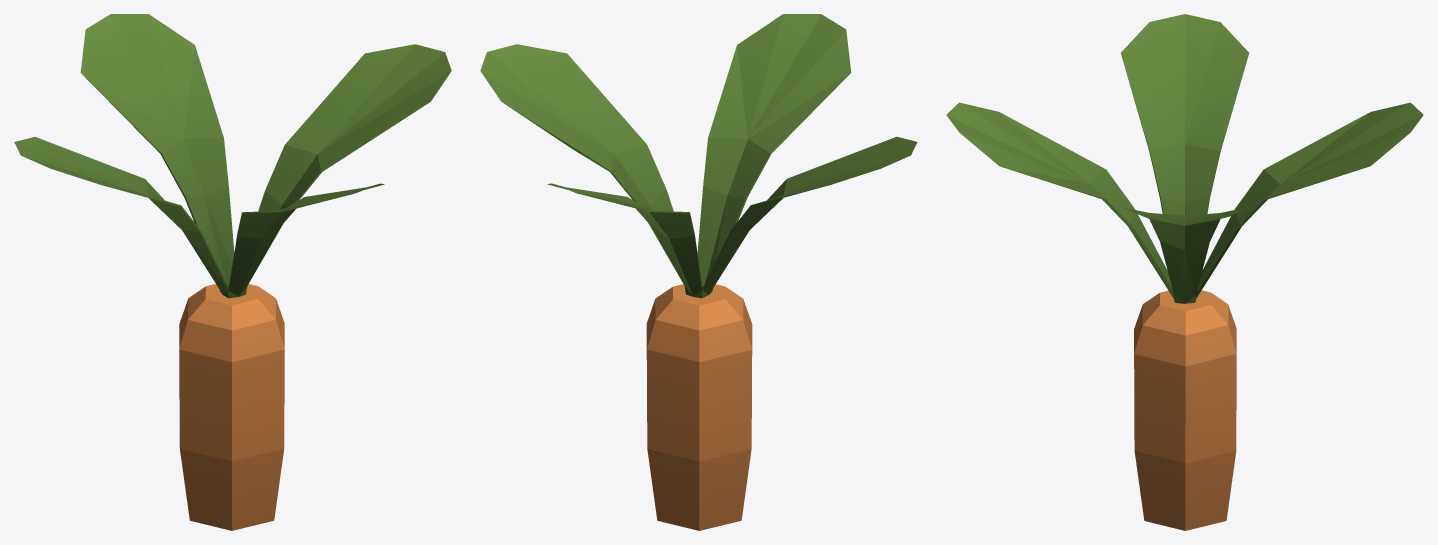
File: Crop_Carrot_STAGE_3_01.obj
The picture shows the model from 3 angles, left to right: view 1: azimuth 30°, elevation 25°; view 2: azimuth 150°, elevation 25°; view 3: azimuth 270°, elevation 25°; orthographic projection. The views are drawn at different scales.
Visible parts, largest first — view 1: Crop_Carrot_STAGE_3_01; view 2: Crop_Carrot_STAGE_3_01; view 3: Crop_Carrot_STAGE_3_01.
Boxes of the visible parts, x1,y1,x2,y2 form: Crop_Carrot_STAGE_3_01: (14, 14, 451, 530); Crop_Carrot_STAGE_3_01: (480, 14, 917, 530); Crop_Carrot_STAGE_3_01: (946, 14, 1423, 530).
Size of the model in its own units: 0.3828 by 0.3505 by 0.3828.
Materials: 1 (1 with a texture image).
